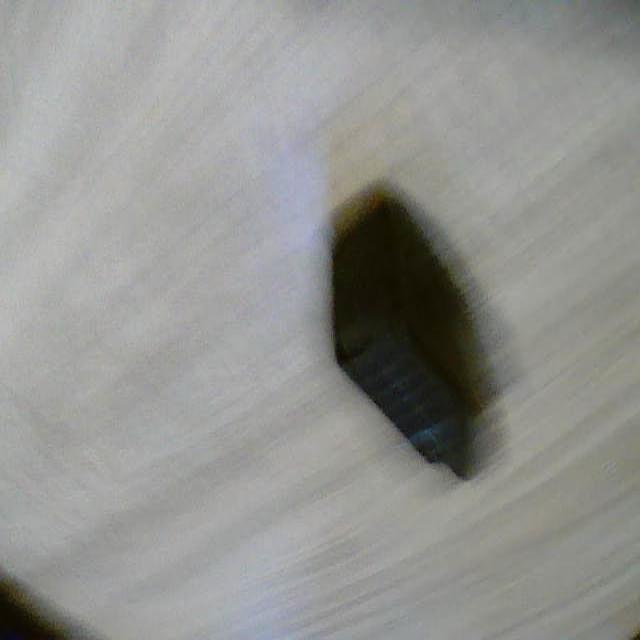borracha: (287, 201, 541, 510)
